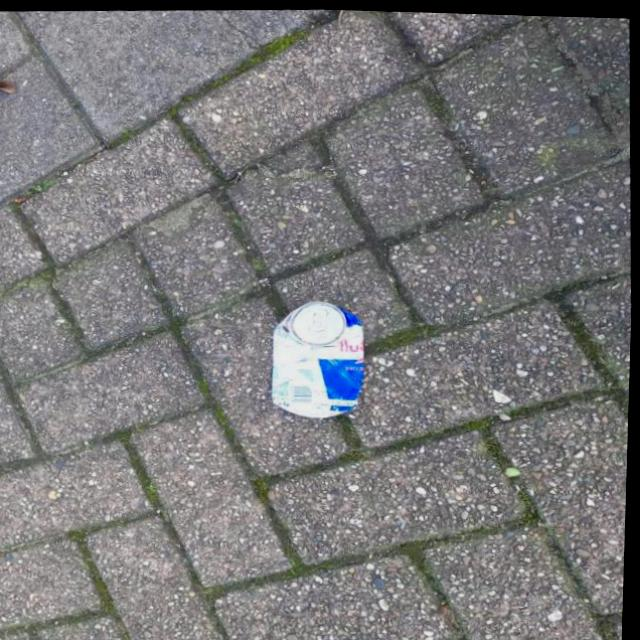Can-Metal: (267, 295, 368, 419)
